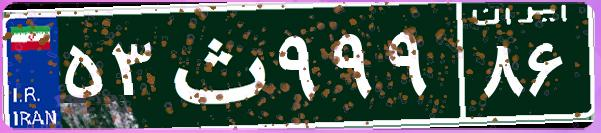3: (110, 28, 158, 105)
5: (57, 26, 110, 107)
6: (525, 38, 570, 115)
8: (475, 38, 525, 113)
9: (385, 28, 445, 110), (273, 28, 330, 110), (330, 28, 385, 110)
ث: (158, 15, 273, 115)
